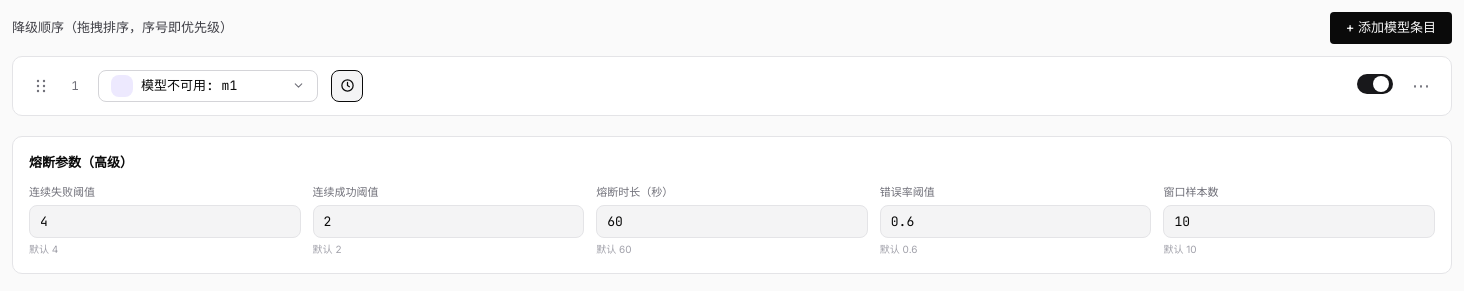
it: ModelRoutingPlanEditor — 时间弹层（决策⑫） › 弹层「清除定时」→ timeCondition 删除（icon 回灰）+ 弹层关
Click the button with test id "plan-editor-item-time": (347, 86) [331,70,363,102]
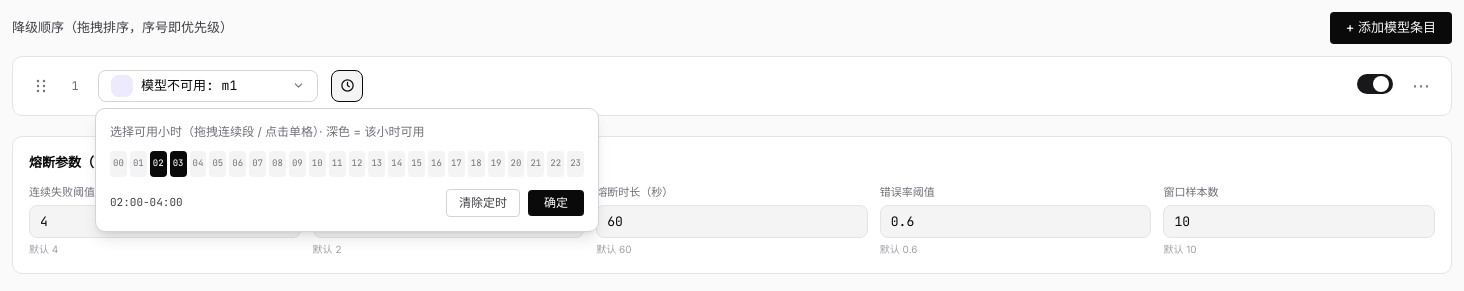
Click the button with test id "hour-grid-clear-time": (483, 202) [446,188,520,216]
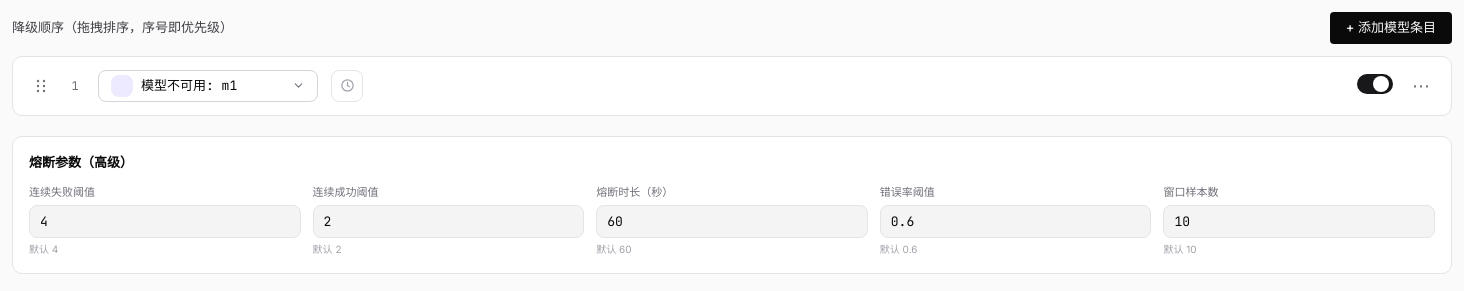
Check: the element with test id "time-popover" is gone
